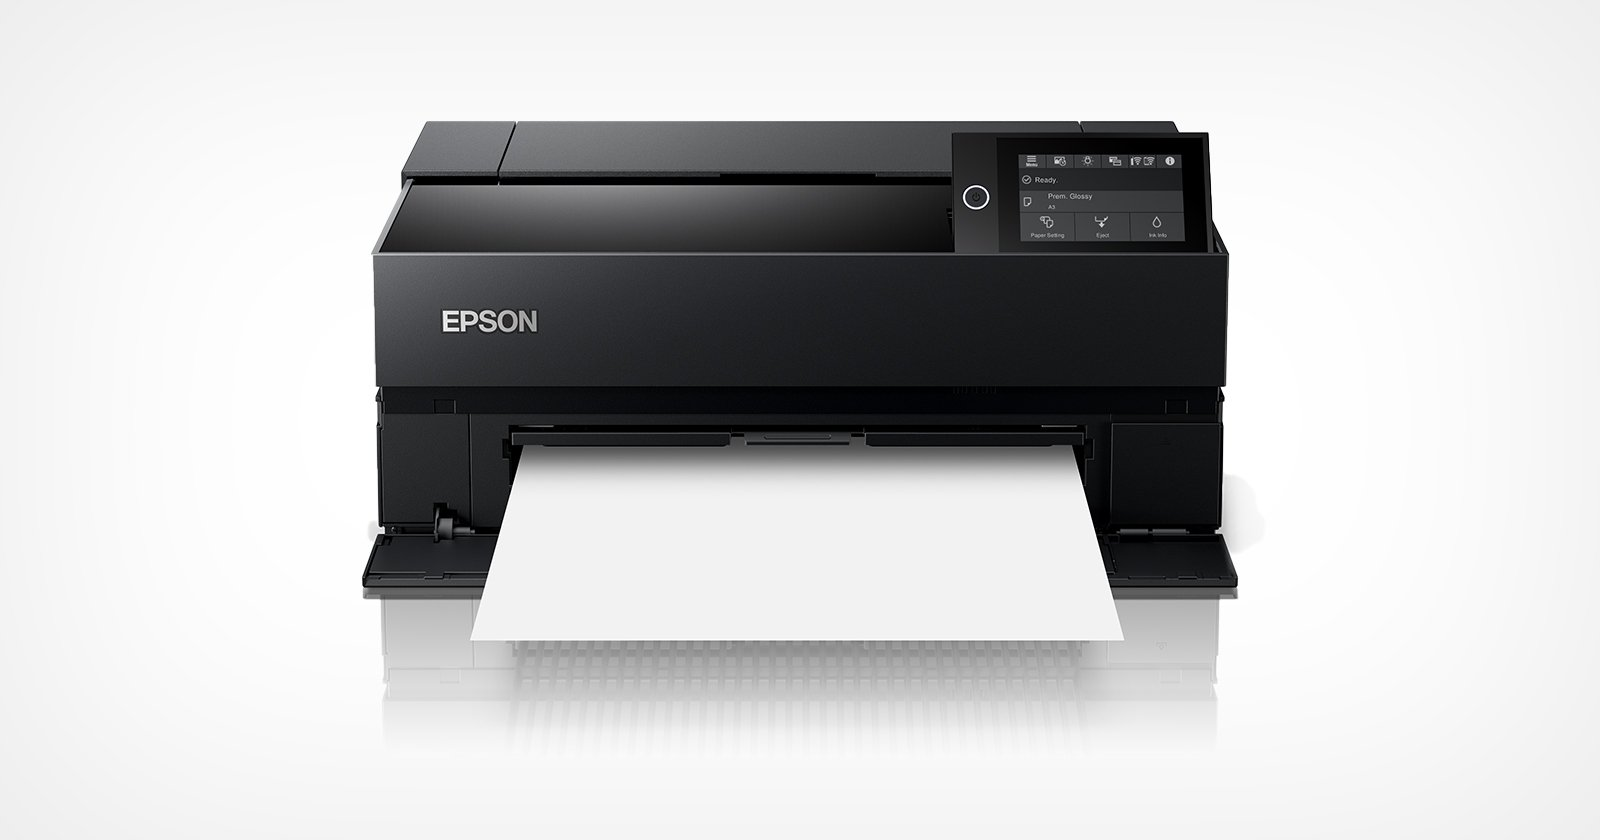printer: (337, 103, 1255, 656)
